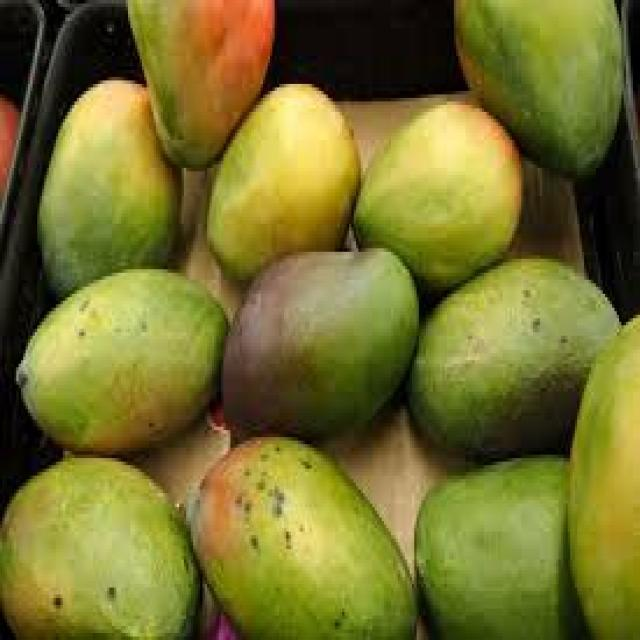Mango: (186, 437, 412, 640), (411, 259, 629, 456), (216, 244, 418, 442), (15, 266, 226, 450), (0, 451, 199, 640), (353, 101, 531, 288), (448, 0, 624, 174), (34, 78, 184, 282), (204, 82, 362, 270), (416, 454, 574, 640), (120, 0, 270, 161)
